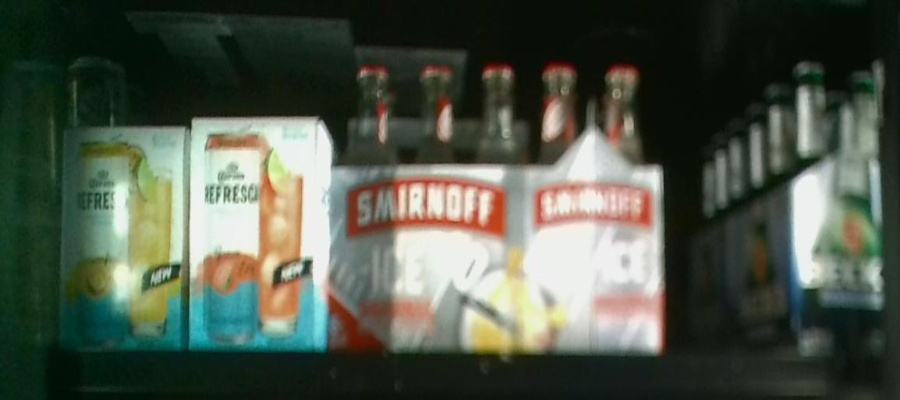bottle: (331, 55, 520, 361), (523, 55, 664, 357), (190, 119, 331, 352), (786, 59, 885, 359), (62, 128, 190, 352)
